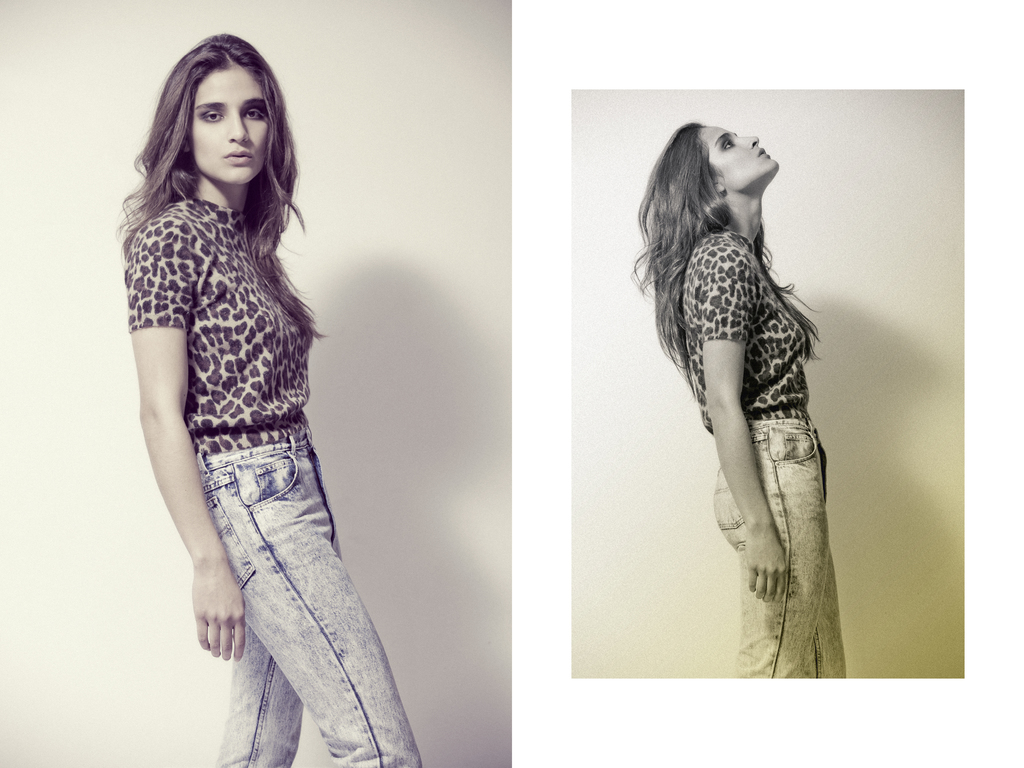Human_hand: (179, 540, 241, 675), (746, 529, 788, 605)
